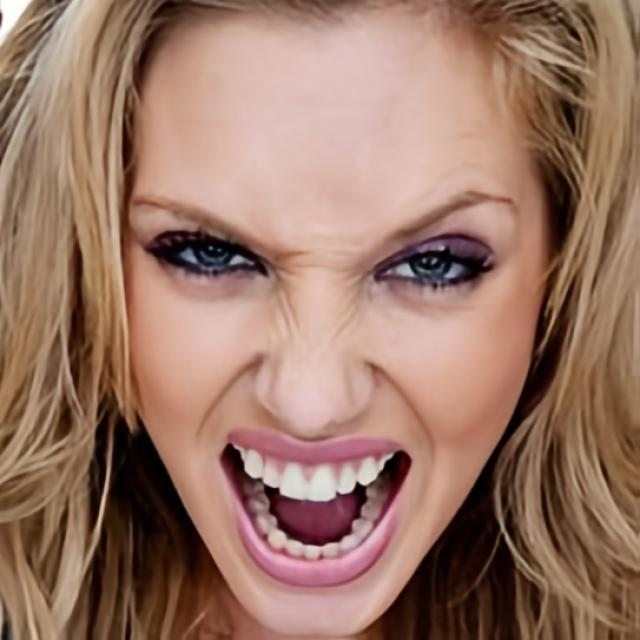anger: (118, 31, 541, 628)
